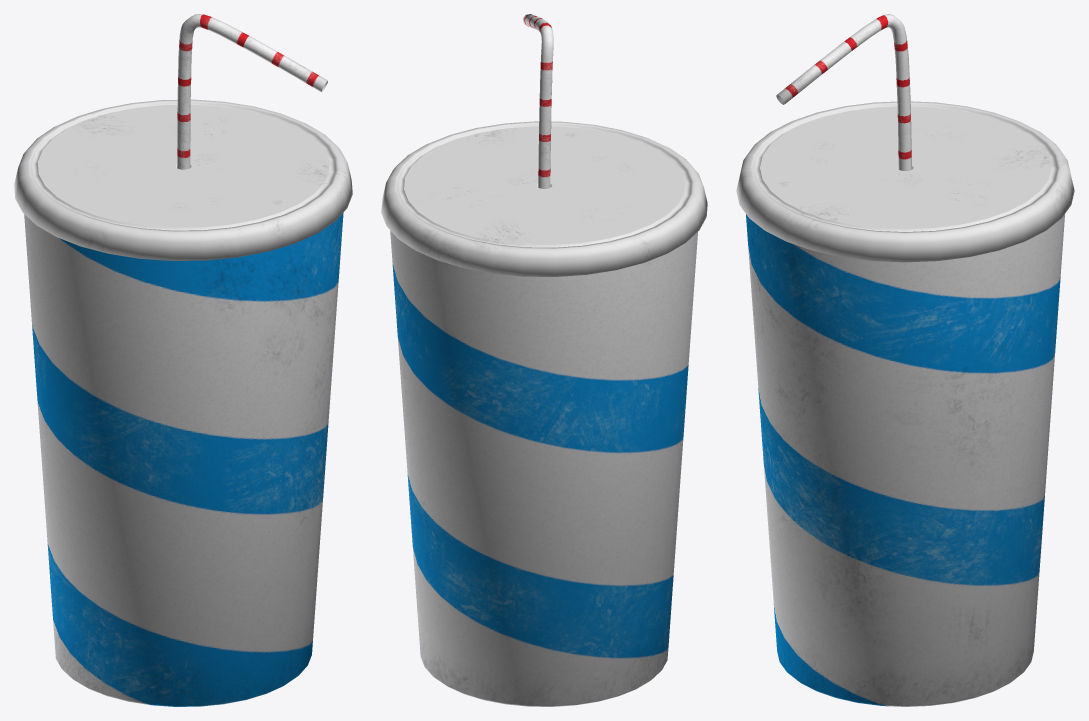
The picture shows the model from 3 angles, left to right: view 1: azimuth 30°, elevation 25°; view 2: azimuth 150°, elevation 25°; view 3: azimuth 270°, elevation 25°; orthographic projection. The views are drawn at different scales.
Parts seen in each view (by area): view 1: Soda Cup; view 2: Soda Cup; view 3: Soda Cup.
Boxes of the visible parts, x1,y1,x2,y2 form: Soda Cup: (14, 14, 352, 706); Soda Cup: (381, 14, 707, 706); Soda Cup: (736, 14, 1074, 706).
Size of the model in its own units: 0.6055 by 1.27 by 0.6055.
1 material, 1 textured.
